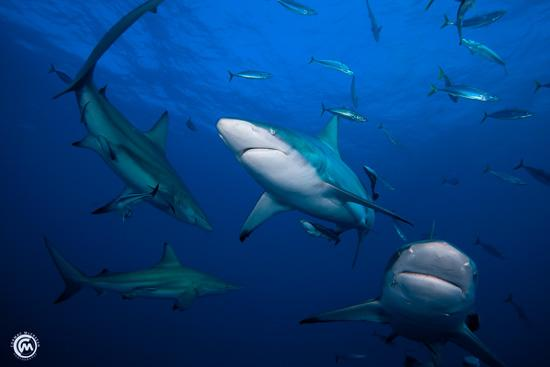Shark -Selachimorpha-: (53, 13, 211, 231), (212, 111, 413, 269), (297, 215, 505, 366), (42, 235, 242, 311)
